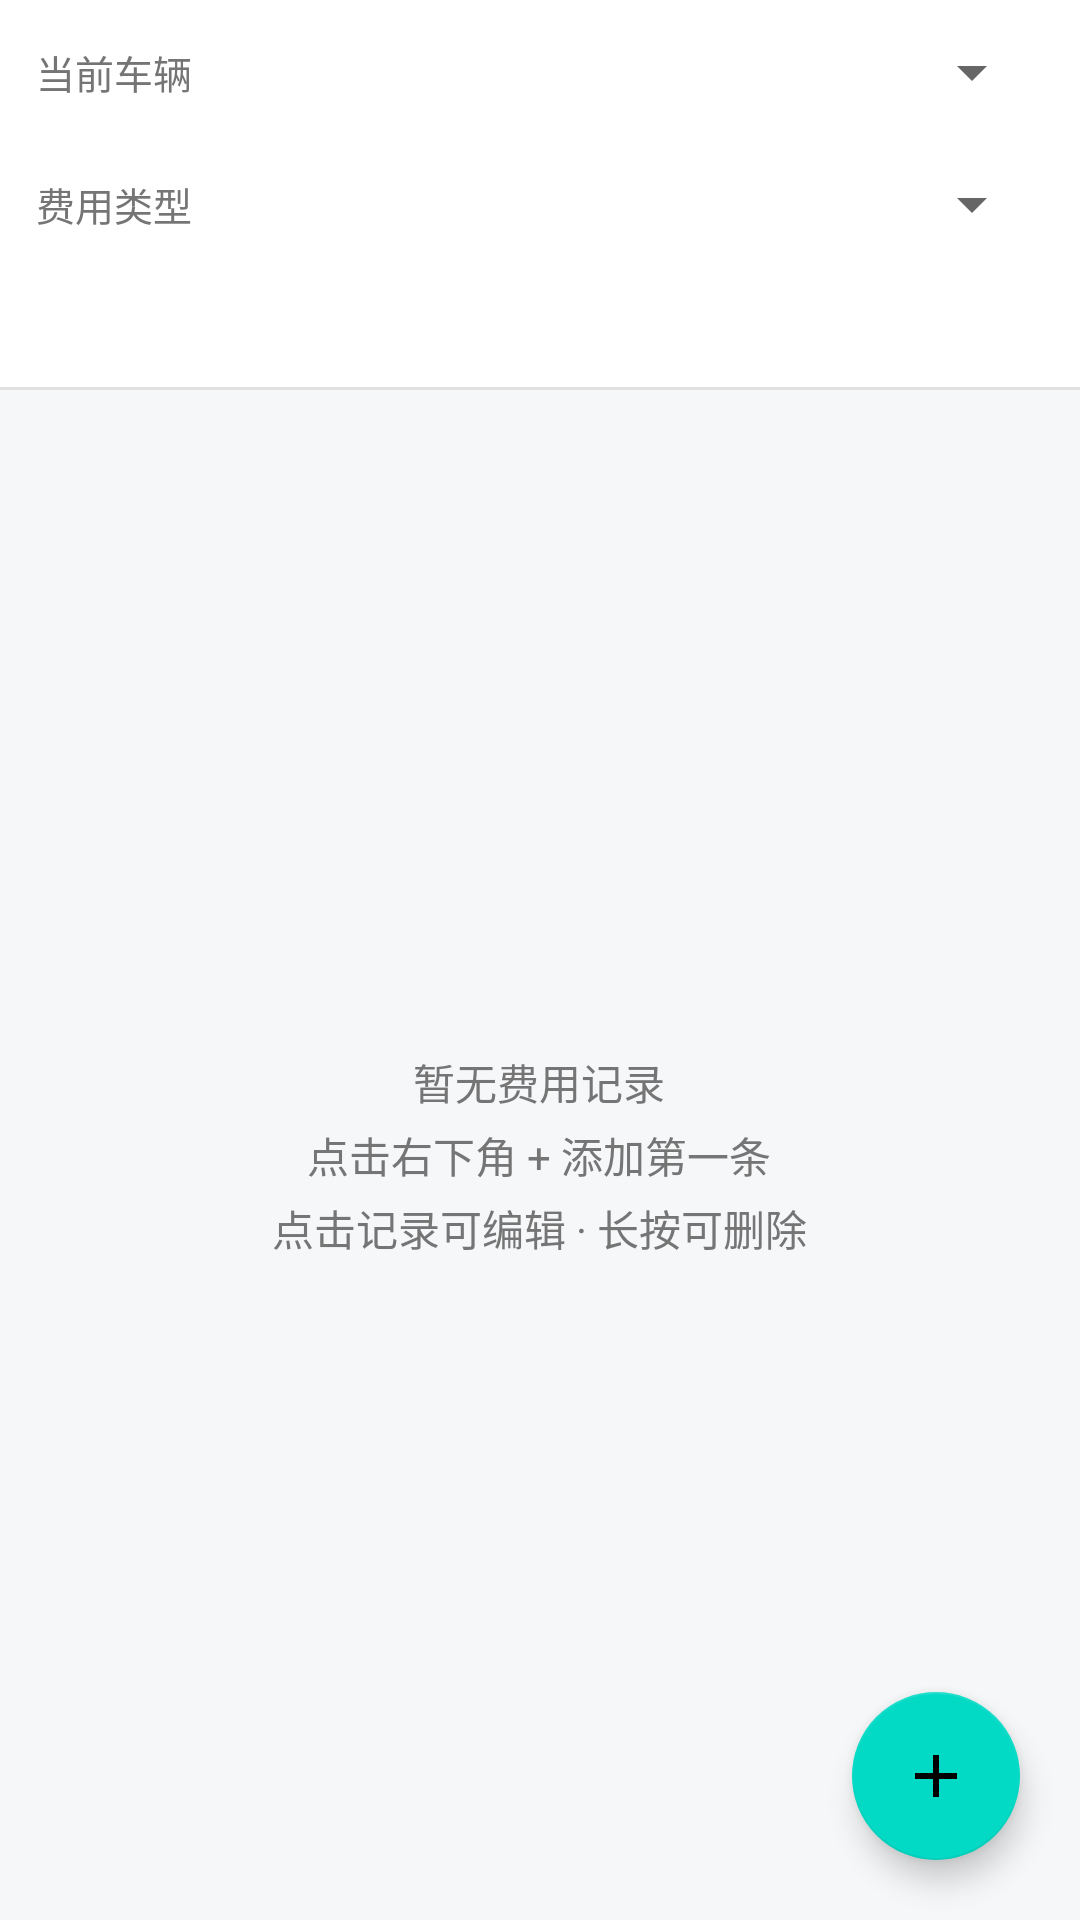

Where to tap for icons on this 1080*1920 app screen, as point (x, y):
新增费用: point (936, 1776)
